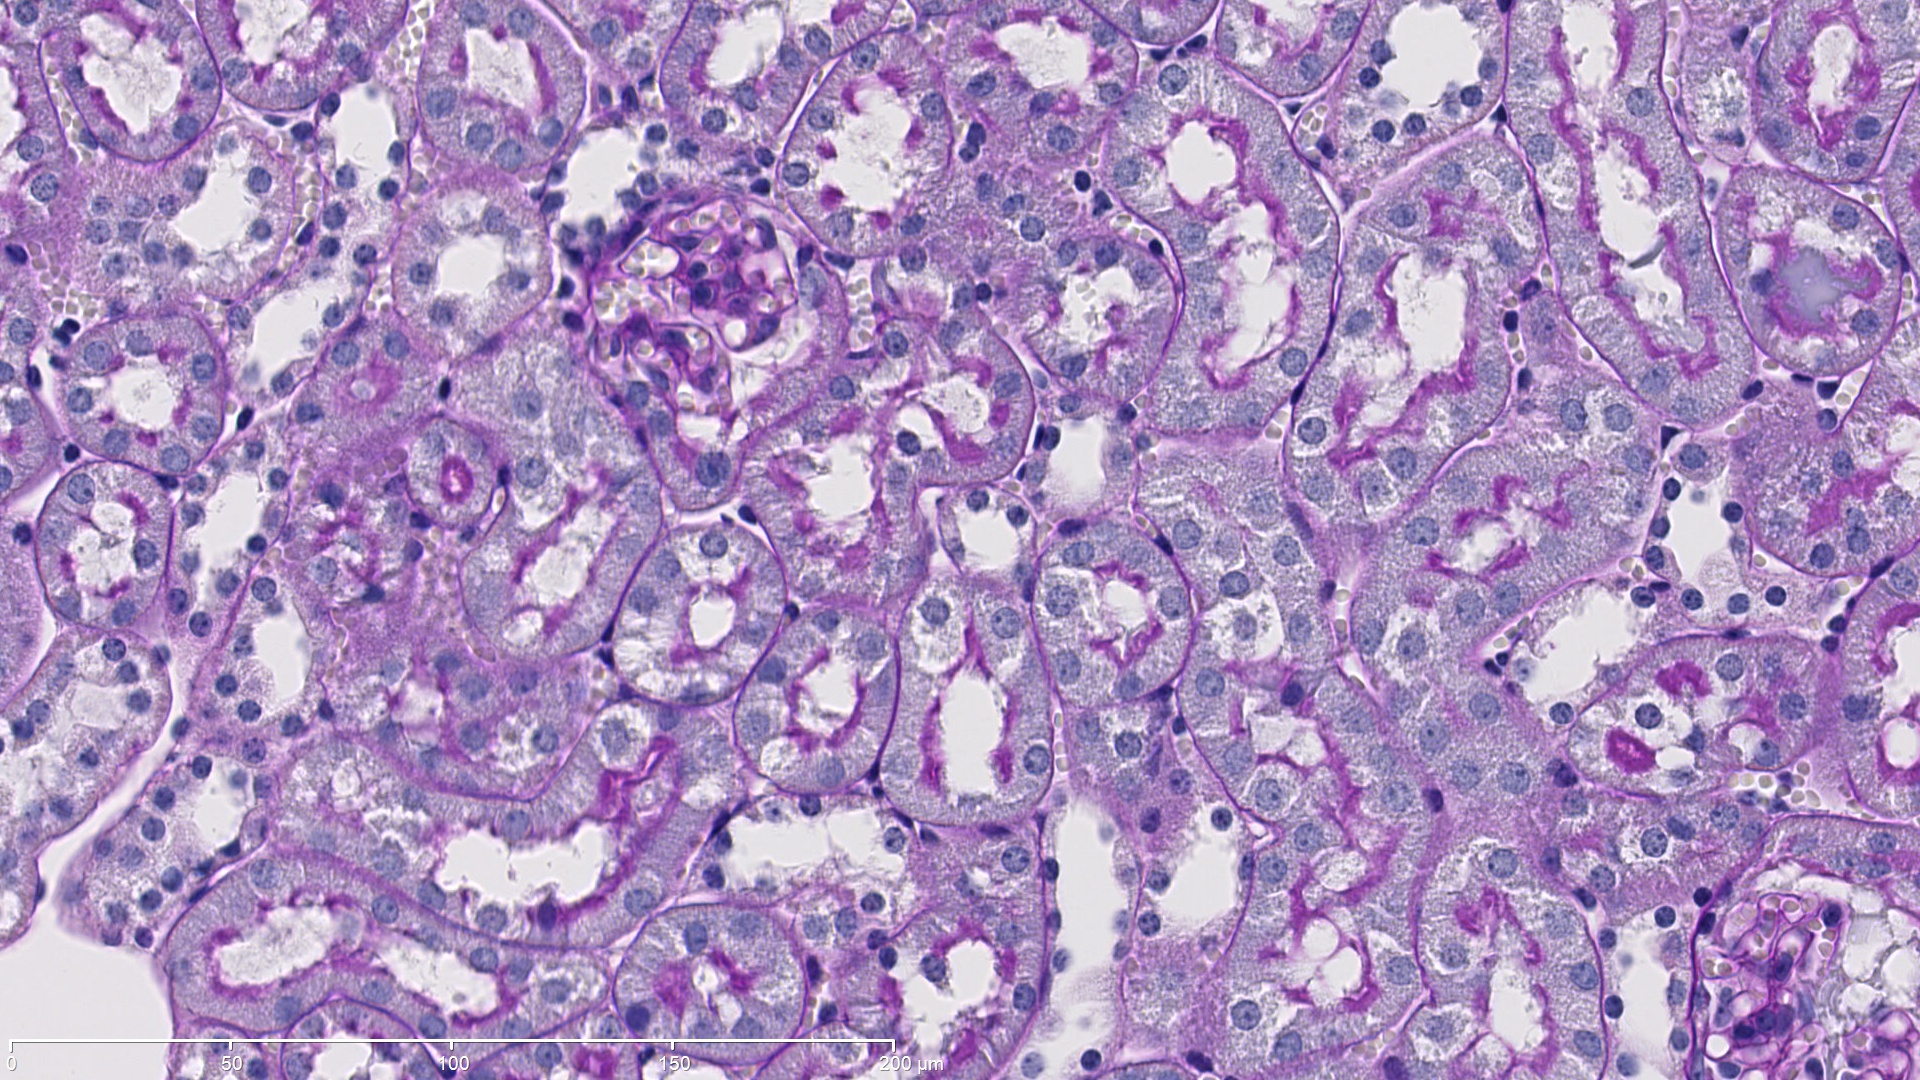Glomeruli: (567, 169, 829, 483)
